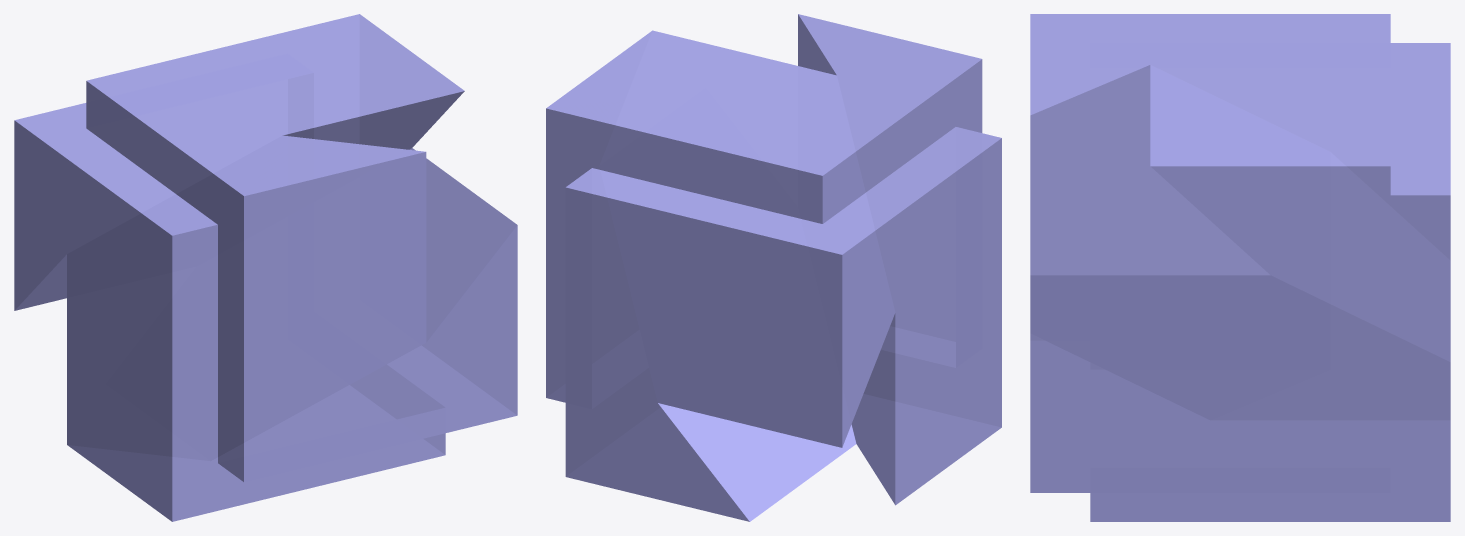
Rendered from HexagonalToroid_T.obj.
3 renders of one model, left to right at view 1: azimuth 30°, elevation 25°; view 2: azimuth 150°, elevation 25°; view 3: azimuth 270°, elevation 25°, orthographic. The views are drawn at different scales.
Size of the model in its own units: 7 by 7 by 7.
